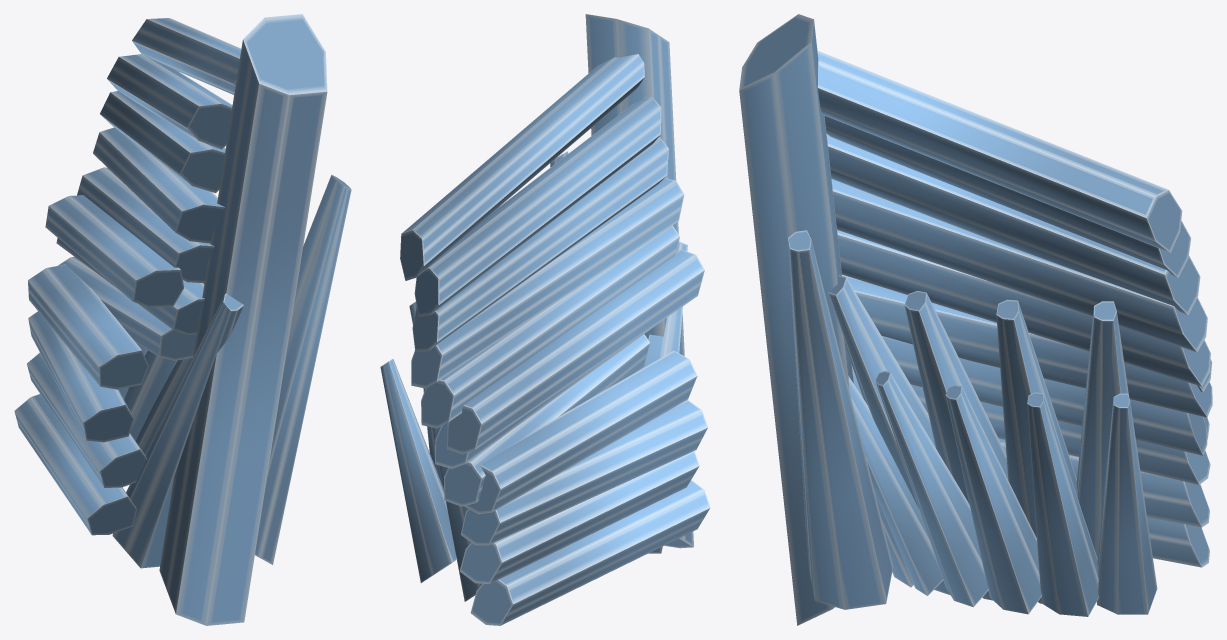
Rendered from wall_spike_011.fbx.
The picture shows the model from 3 angles, left to right: view 1: azimuth 30°, elevation 25°; view 2: azimuth 150°, elevation 25°; view 3: azimuth 270°, elevation 25°; orthographic projection. The views are drawn at different scales.
Parts seen in each view (by area): view 1: wall_spike_011; view 2: wall_spike_011; view 3: wall_spike_011.
Boxes of the visible parts, x1,y1,x2,y2 form: wall_spike_011: [14, 14, 351, 625]; wall_spike_011: [380, 14, 710, 625]; wall_spike_011: [739, 14, 1212, 625].
Bounding box in the file's own units: 1.02 × 2.22 × 1.54.
1 material, 1 textured.
